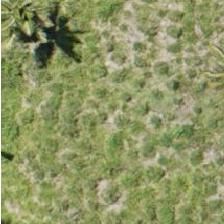coconut_tree: (0, 0, 81, 56)
